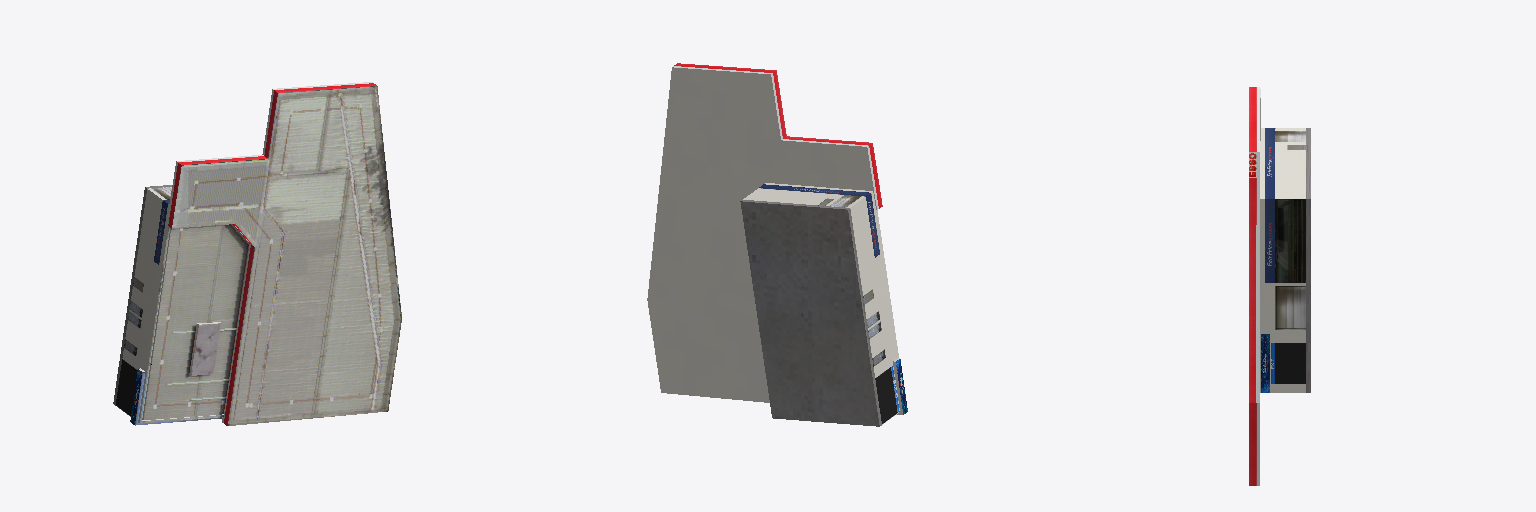
3 views of the same model, side by side, from view 1: azimuth 30°, elevation 25°; view 2: azimuth 150°, elevation 25°; view 3: azimuth 270°, elevation 25° (orthographic).
Visible parts, largest first — view 1: polygon.010; view 2: polygon.010; view 3: polygon.010.
Part boxes in pixels (x1,y1,x2,y2): polygon.010: (113, 82, 401, 425); polygon.010: (647, 63, 907, 426); polygon.010: (1249, 87, 1310, 485).
Size of the model in its own units: 32.29 by 40.8 by 6.66.
1 materials, 1 textured.